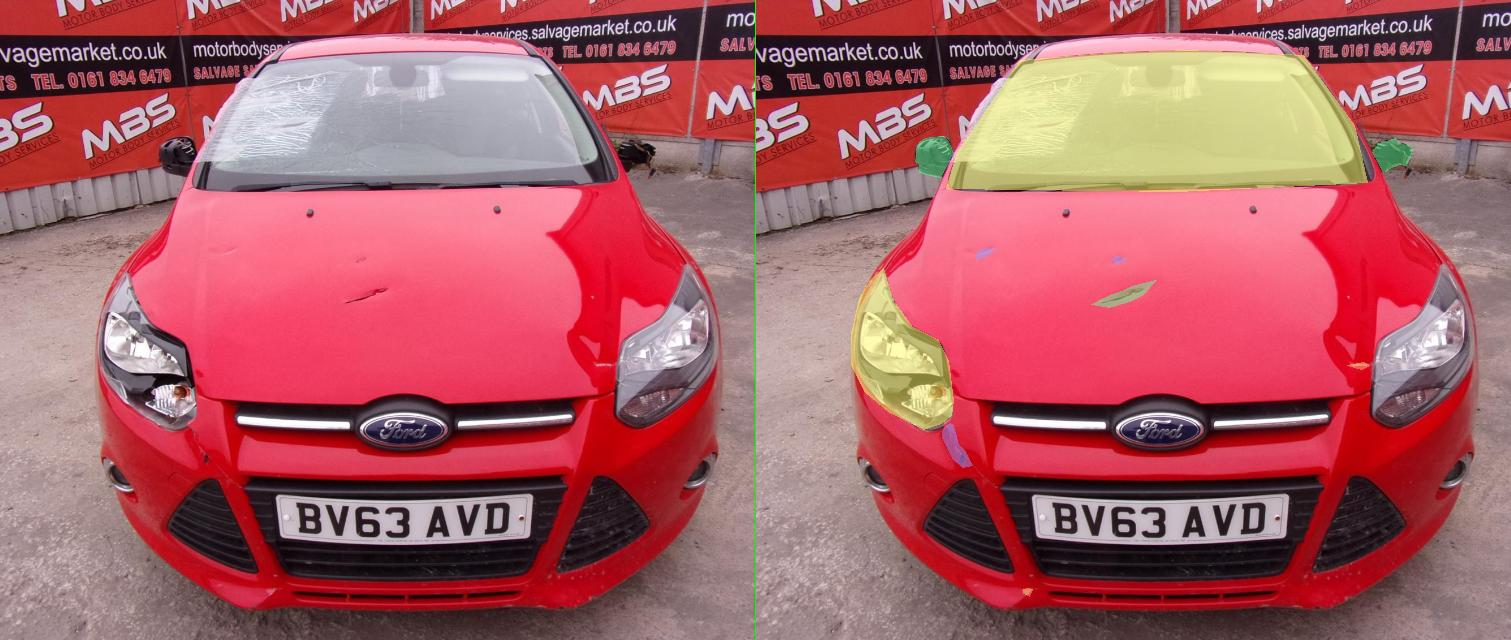Broken part: (670, 280, 801, 307), (318, 136, 394, 177), (1233, 138, 1313, 172)
Cracked: (380, 50, 1223, 191), (190, 268, 394, 429)
Paint chip: (1183, 362, 1227, 369), (534, 588, 552, 596)
Scratch: (372, 423, 432, 467), (440, 248, 478, 259), (708, 255, 740, 263)
